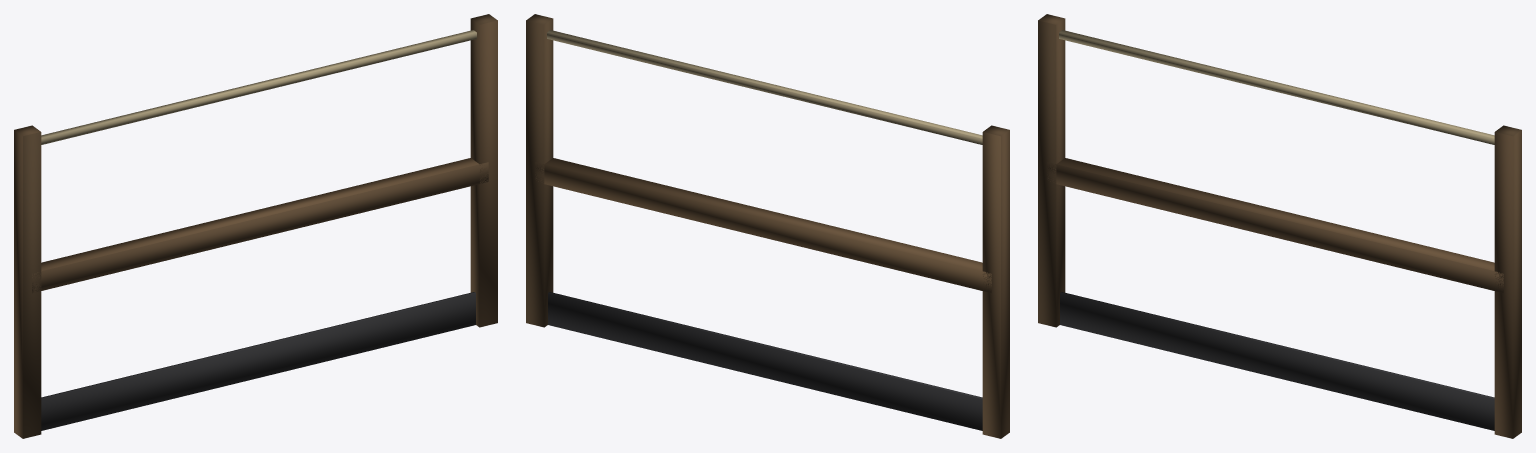
File: sega.glb
3 views of the same model, side by side, from view 1: azimuth 30°, elevation 25°; view 2: azimuth 150°, elevation 25°; view 3: azimuth 330°, elevation 25° (orthographic).
Parts seen in each view (by area): view 1: sega; view 2: sega; view 3: sega.
Boxes of the visible parts, x1,y1,x2,y2 form: sega: (14, 14, 497, 438); sega: (526, 14, 1009, 438); sega: (1038, 14, 1521, 438).
Bounding box in the file's own units: 0.624 × 0.38 × 0.02.
